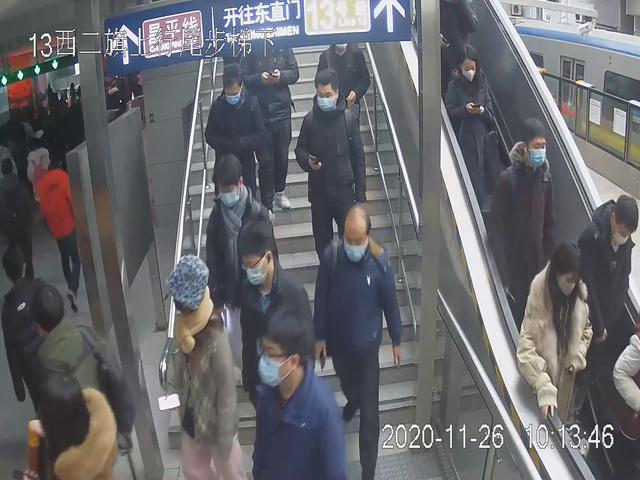person: (314, 204, 405, 480), (158, 251, 244, 480), (201, 152, 281, 395), (484, 115, 557, 356), (517, 240, 598, 455), (293, 66, 368, 285), (203, 60, 274, 225), (443, 42, 499, 231)
